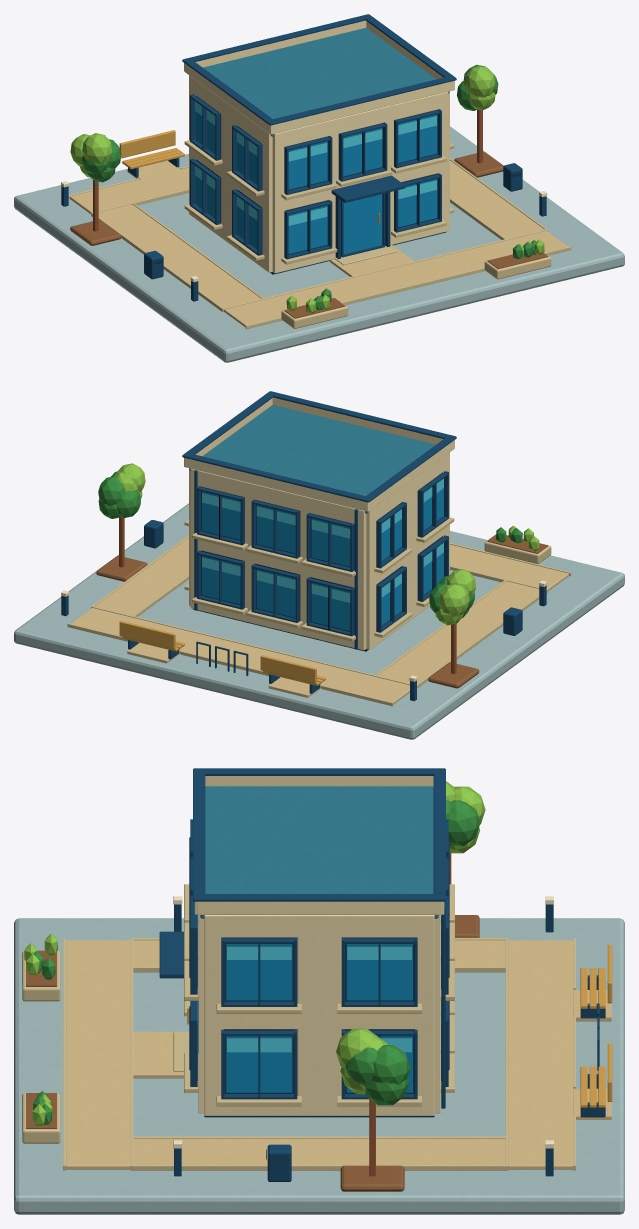
The model's file is building.glb.
The picture shows the model from 3 angles, top to bottom: view 1: azimuth 30°, elevation 25°; view 2: azimuth 150°, elevation 25°; view 3: azimuth 270°, elevation 25°; orthographic projection. The views are drawn at different scales.
Parts seen in each view (by area): view 1: Site, BuildingShell, Roof, DoorMesh; view 2: Site, BuildingShell, Roof; view 3: Site, BuildingShell, Roof.
Part boxes in pixels (bbox=[...]): Site: bbox=[14, 64, 624, 362]; BuildingShell: bbox=[184, 75, 454, 274]; Roof: bbox=[182, 14, 456, 136]; DoorMesh: bbox=[341, 193, 385, 257]; Site: bbox=[14, 463, 624, 739]; BuildingShell: bbox=[184, 452, 454, 651]; Roof: bbox=[182, 391, 456, 513]; Site: bbox=[14, 781, 624, 1214]; BuildingShell: bbox=[159, 819, 454, 1117]; Roof: bbox=[193, 768, 445, 918].
Bounding box in the file's own units: 7.5 × 3.06 × 6.9.
Materials: 2 (1 with a texture image).
